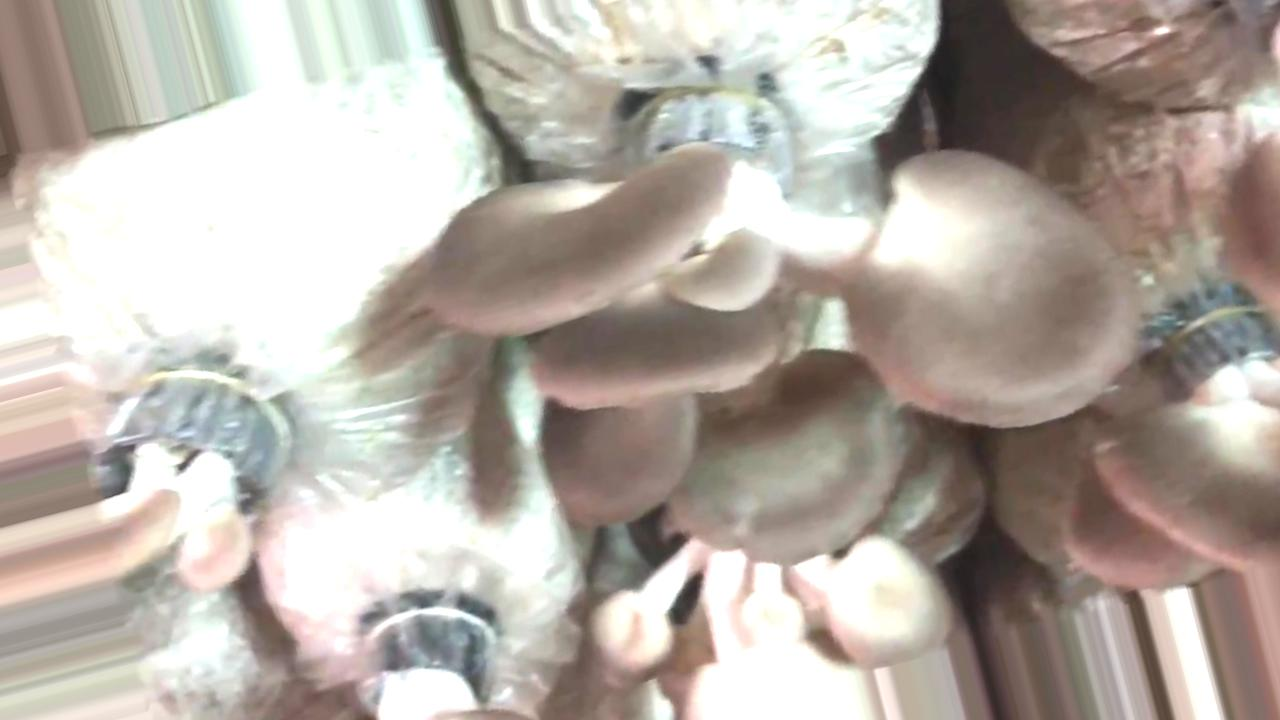nam: (428, 84, 1138, 564), (603, 535, 945, 720), (1068, 312, 1280, 589), (102, 374, 282, 588)
